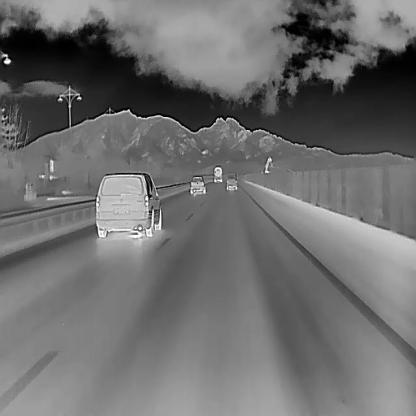car: (95, 172, 161, 238), (188, 174, 205, 194), (226, 173, 237, 189)
truck: (212, 165, 222, 183)
